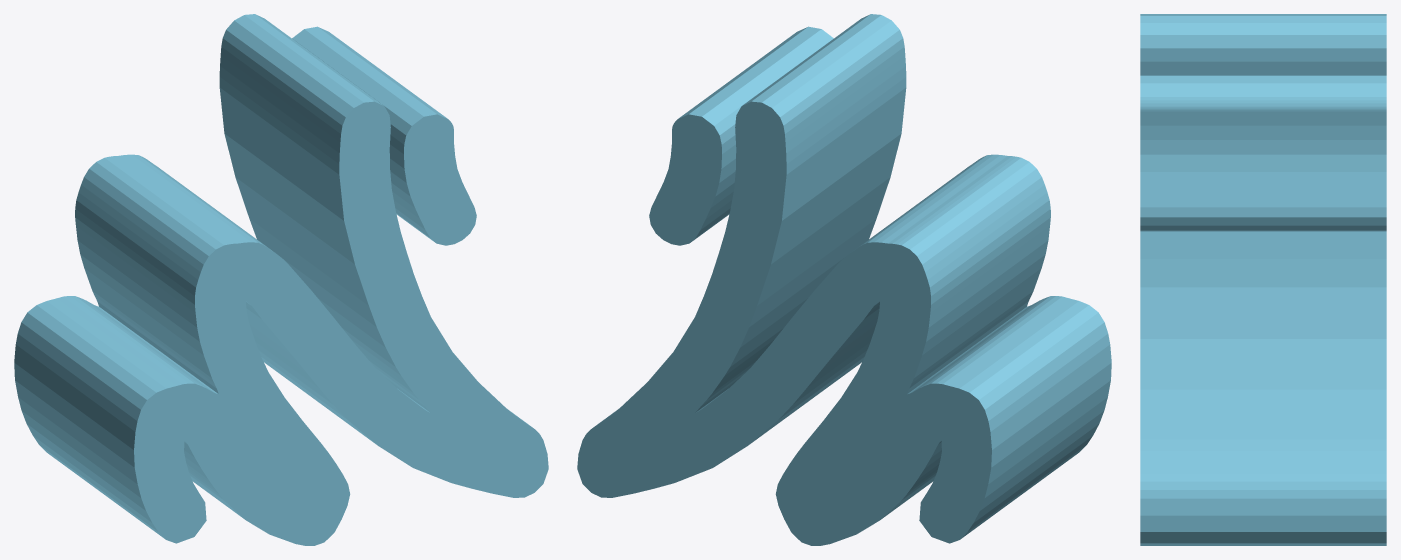
The model's file is tinker.obj.
3 renders of one model, left to right at view 1: azimuth 30°, elevation 25°; view 2: azimuth 150°, elevation 25°; view 3: azimuth 270°, elevation 25°, orthographic. The views are drawn at different scales.
Parts seen in each view (by area): view 1: obj_0; view 2: obj_0; view 3: obj_0.
Part boxes in pixels (<box>): obj_0: <box>14,14,548,545</box>; obj_0: <box>577,14,1111,545</box>; obj_0: <box>1140,14,1386,545</box>.
Size of the model in its own units: 20 by 20 by 10.
